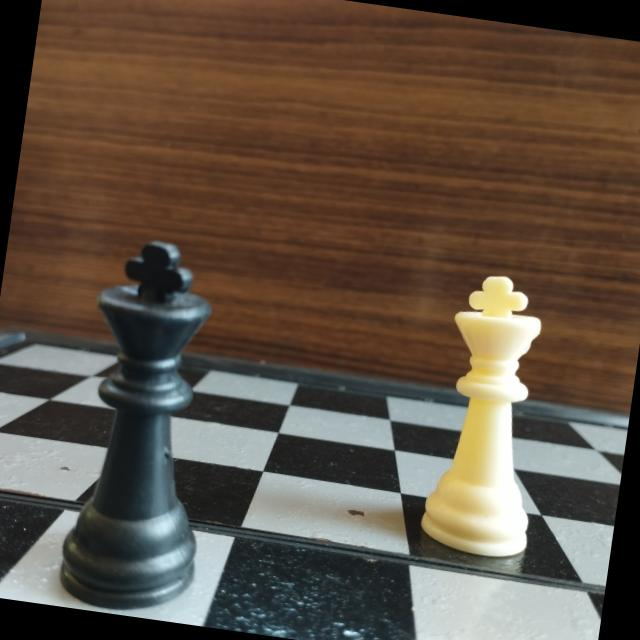Black King: (45, 227, 249, 625)
White King: (410, 261, 578, 571)
